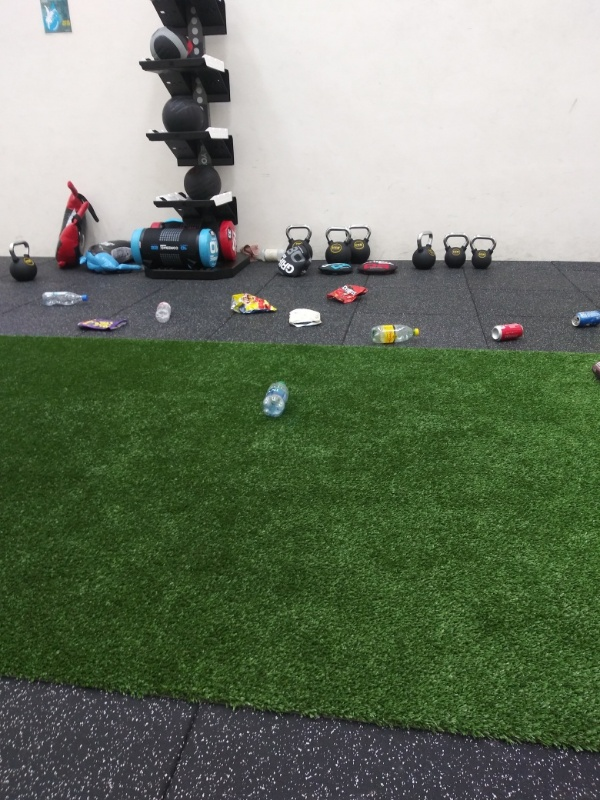bag: (222, 289, 283, 318), (71, 315, 138, 335), (285, 302, 324, 334), (322, 282, 372, 306)
bottle: (253, 376, 296, 419), (366, 322, 424, 348), (39, 288, 93, 309), (149, 297, 174, 326)
can: (486, 319, 528, 345), (569, 309, 600, 331)
